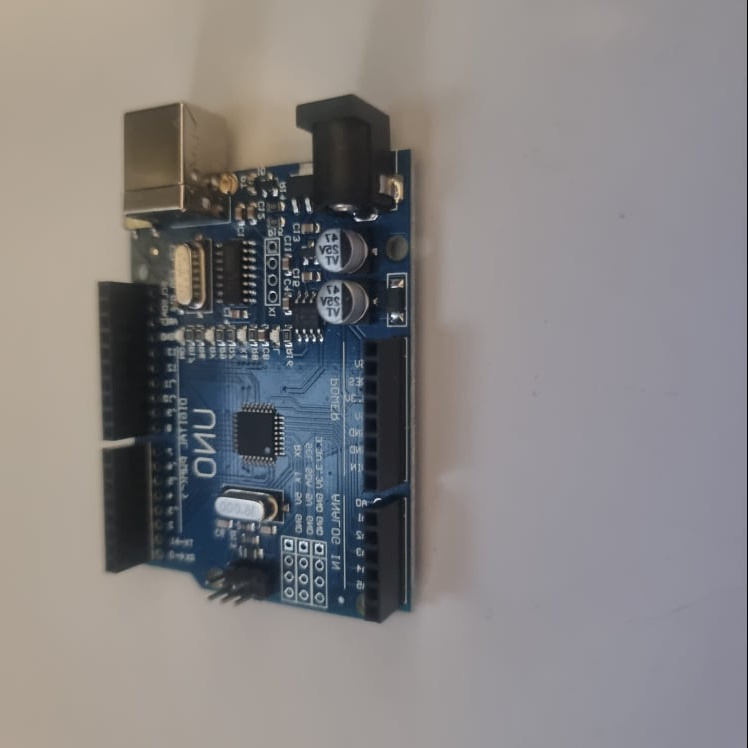UNO R3: (96, 100, 417, 627)
